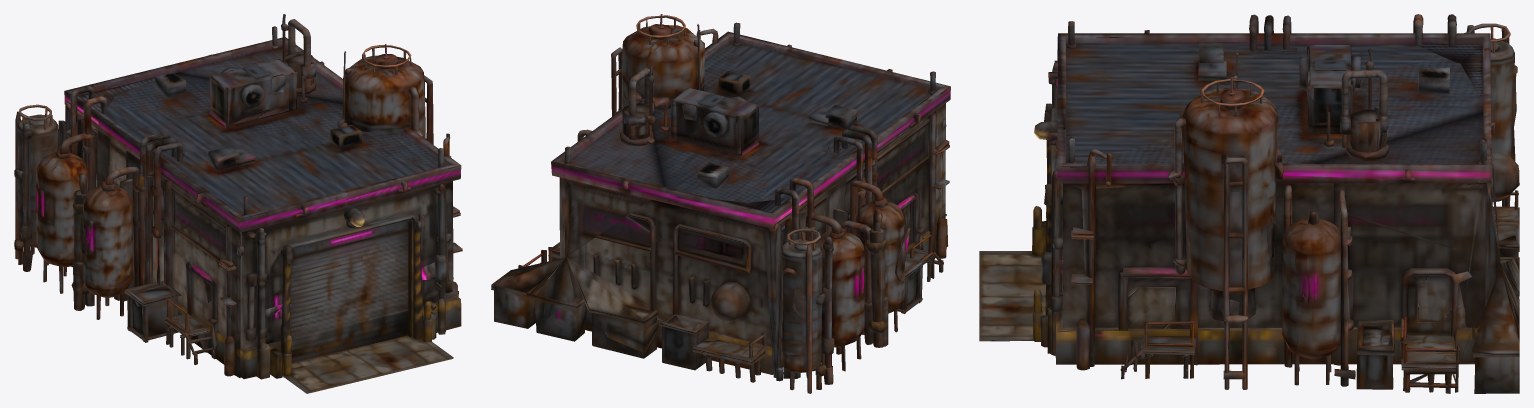
The model's file is warehouse.glb.
3 views of the same model, side by side, from view 1: azimuth 30°, elevation 25°; view 2: azimuth 150°, elevation 25°; view 3: azimuth 270°, elevation 25° (orthographic). The views are drawn at different scales.
Parts seen in each view (by area): view 1: geometry_0; view 2: geometry_0; view 3: geometry_0.
Boxes of the visible parts, <box> form: geometry_0: <box>14,14,462,393</box>; geometry_0: <box>491,14,950,393</box>; geometry_0: <box>979,14,1519,393</box>.
Bounding box in the file's own units: 0.8586 × 0.5921 × 1.
Materials: 1 (1 with a texture image).
